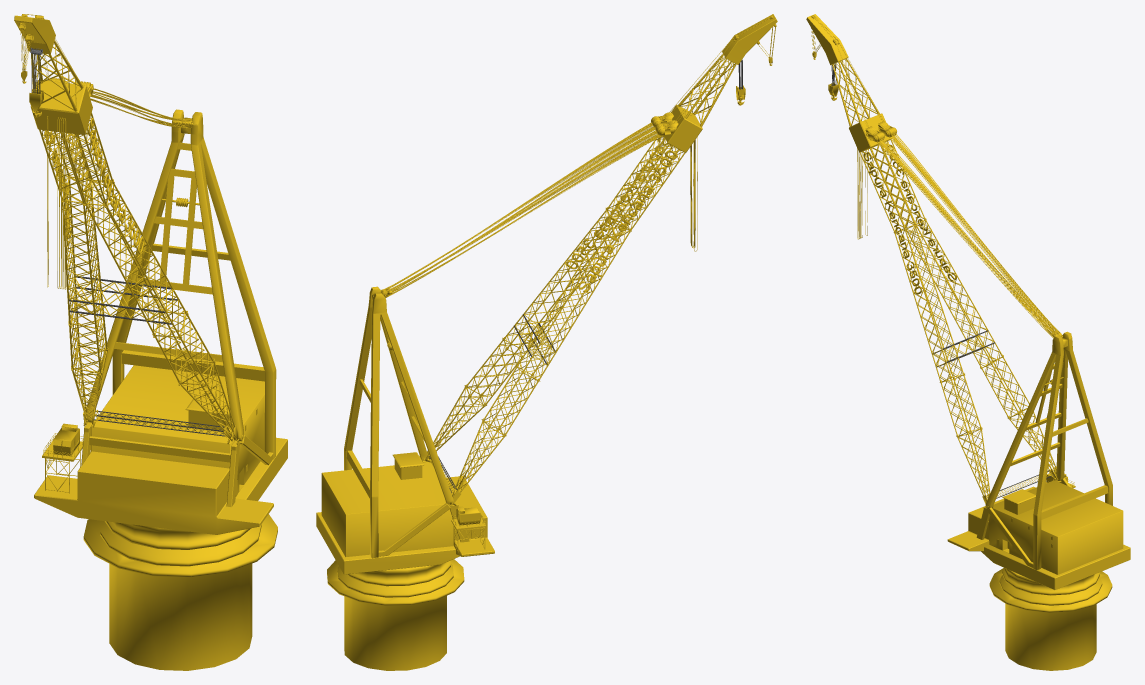
Rendered from crane.glb.
The picture shows the model from 3 angles, left to right: view 1: azimuth 30°, elevation 25°; view 2: azimuth 150°, elevation 25°; view 3: azimuth 270°, elevation 25°; orthographic projection. The views are drawn at different scales.
Visible parts, largest first — view 1: crane; view 2: crane; view 3: crane.
Boxes of the visible parts, bbox=[...] form: crane: bbox=[14, 14, 287, 670]; crane: bbox=[316, 14, 777, 670]; crane: bbox=[806, 14, 1130, 670].
Size of the model in its own units: 61.7 by 108 by 59.59.
